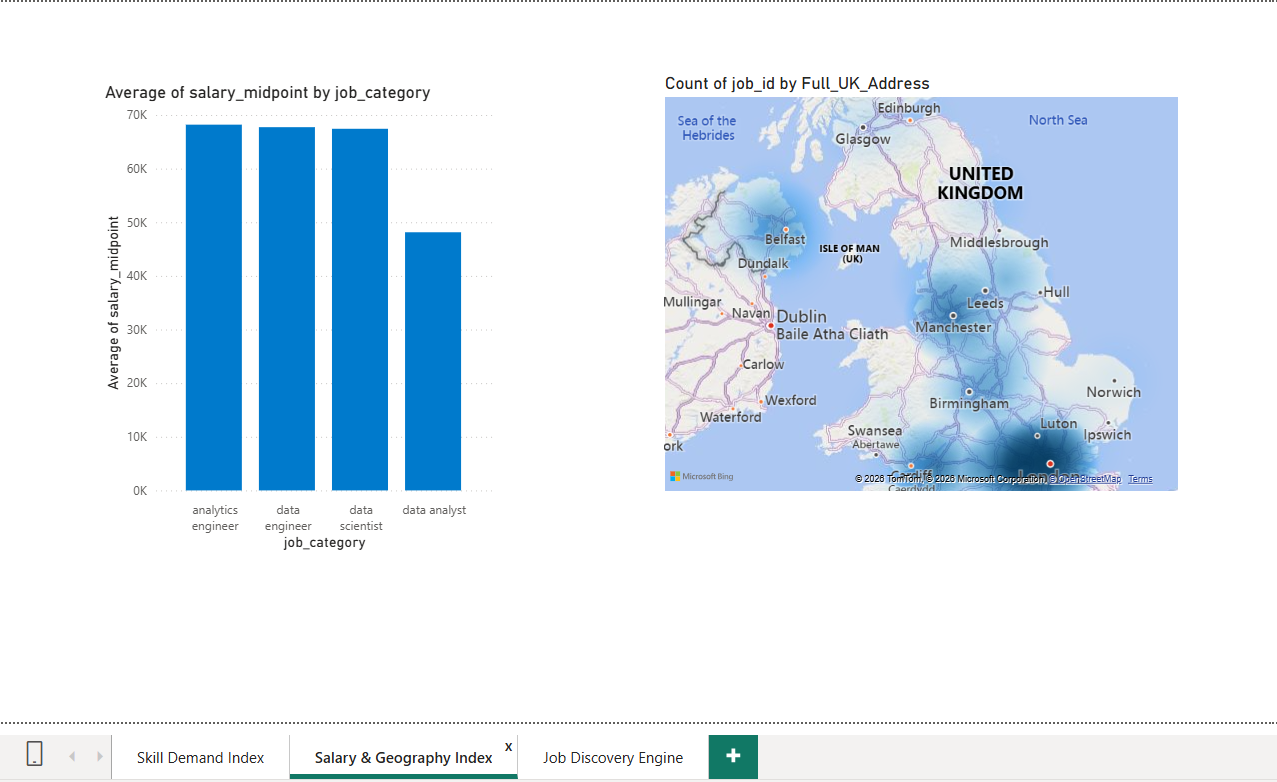

The page's visual inventory and layout, read from the dashboard file:
{"tool":"powerbi","page":{"name":"Salary & Geography Index","canvas":[1280,720],"ordinal":1},"visuals":[{"type":"clusteredColumnChart","fields":{"Category":["fct_job_market_insights.job_category"],"Y":["Avg(fct_job_market_insights.salary_midpoint)"]},"box":[100.2,79.6,397.9,473.4],"z":0},{"type":"map","fields":{"Size":["CountNonNull(fct_job_market_insights.job_id)"],"Category":["fct_job_market_insights.Full_UK_Address"]},"box":[660,71.4,522.8,422.6],"z":1000}]}

Visuals, with their boxes on the page's 1280x720 design canvas (x1, y1, x2, y2). These are canvas units, not pixel positions in the 1277x782 screenshot, which may show the page scaled, cropped or inside an application window:
clusteredColumnChart - fct_job_market_insights.job_category x Avg(fct_job_market_insights.salary_midpoint): BBox(100, 80, 498, 553)
map - CountNonNull(fct_job_market_insights.job_id) x fct_job_market_insights.Full_UK_Address: BBox(660, 71, 1183, 494)
